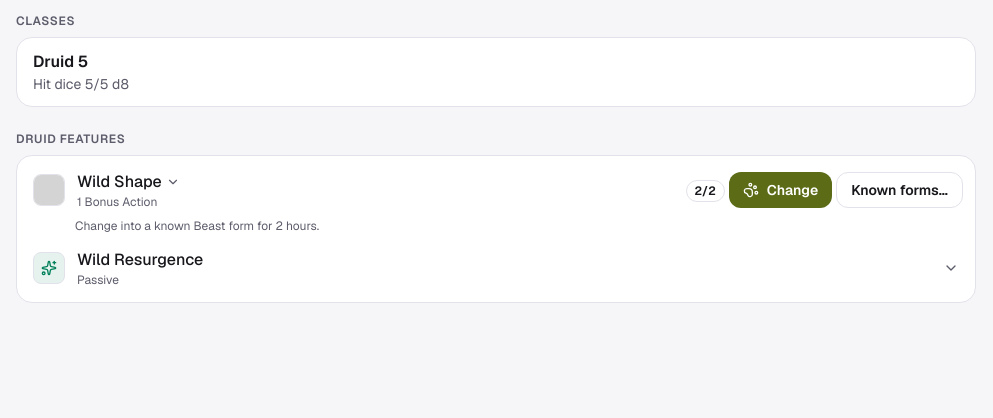
Test: components/character-sheet/wild-shape: the row, from module 0.40.0 › says the Moon’s AC floor and fly limit in Features’ line
Click the button "Wild Shape 1 Bonus Action".
click(49, 190)  # box [27, 168, 678, 212]
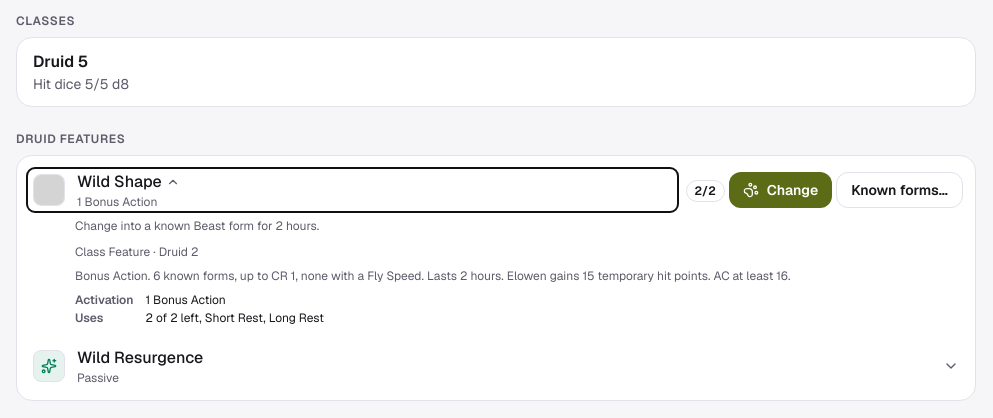
Check: the button "Known forms…" is shown, box [836, 172, 963, 208]
Check: the text "Bonus Action. 6 known forms, up to CR 1, none with a Fly Speed. Lasts 2 hours. Elowen gains 15 temporary hit points. AC " is shown, box [75, 268, 790, 284]
